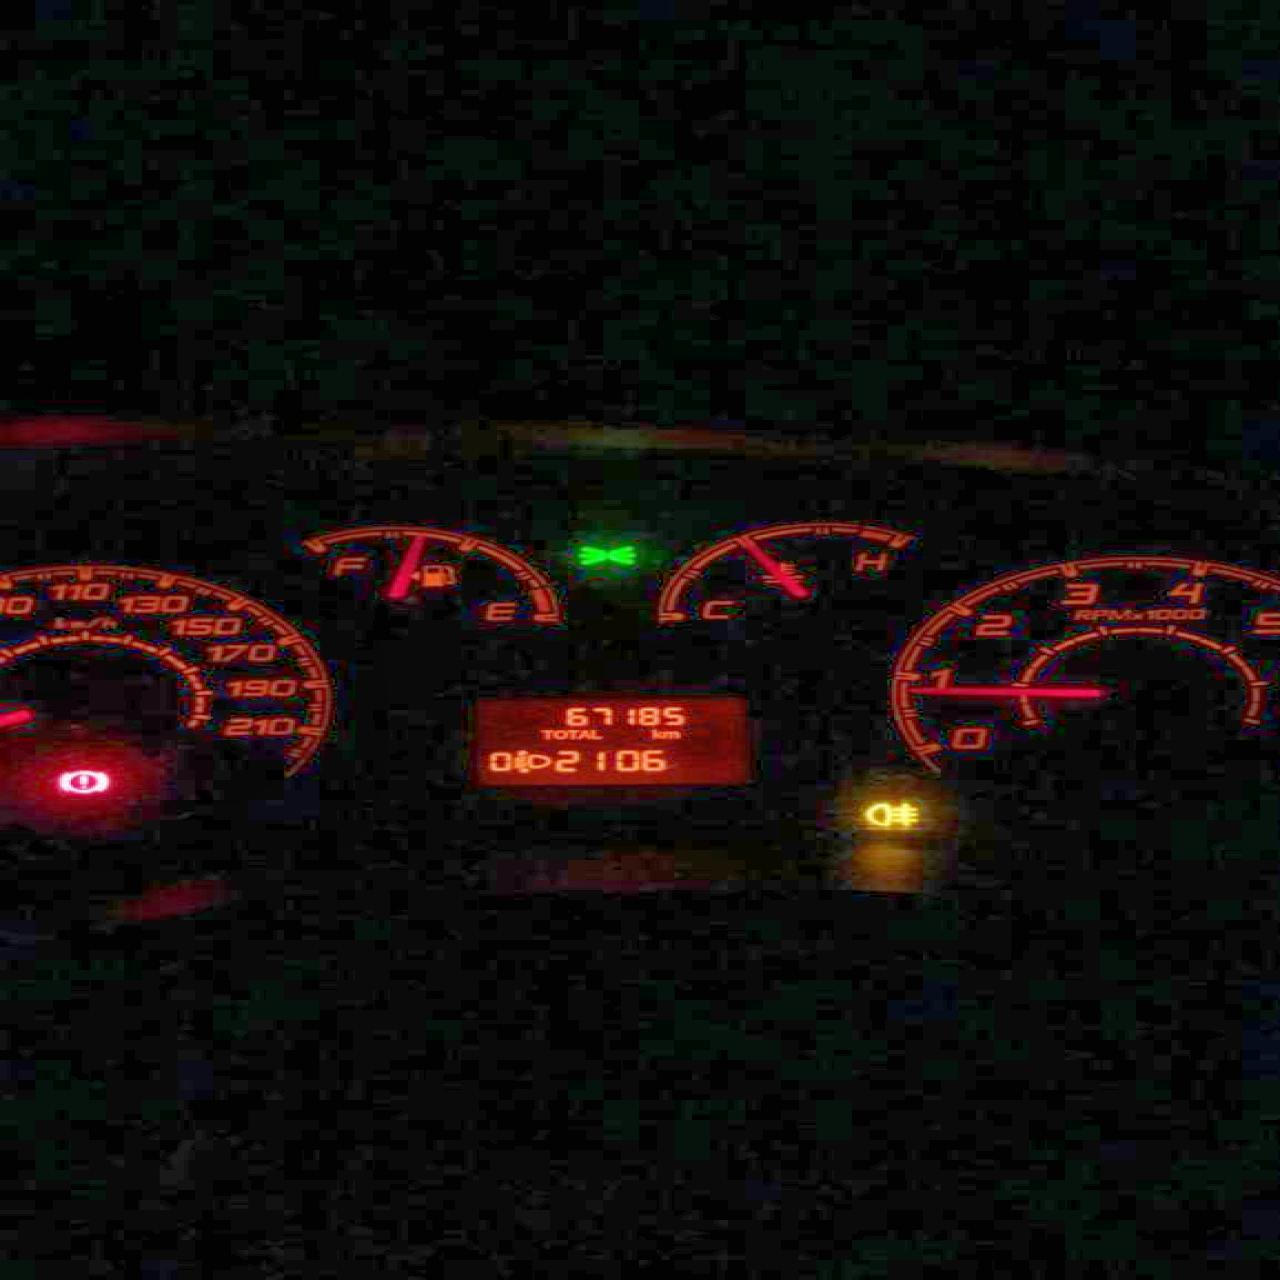0: (614, 749, 639, 771), (488, 750, 510, 771)
1: (592, 748, 606, 771), (626, 706, 634, 726)
2: (552, 748, 579, 772)
5: (661, 704, 686, 726)
6: (639, 748, 666, 771), (564, 706, 586, 726)
7: (591, 704, 614, 726)
8: (636, 704, 659, 726)
X: (587, 729, 601, 738), (552, 729, 566, 738), (661, 730, 679, 737), (539, 728, 550, 738), (651, 729, 661, 738), (577, 729, 588, 737), (565, 729, 577, 737)
odometer: (472, 696, 745, 785)
